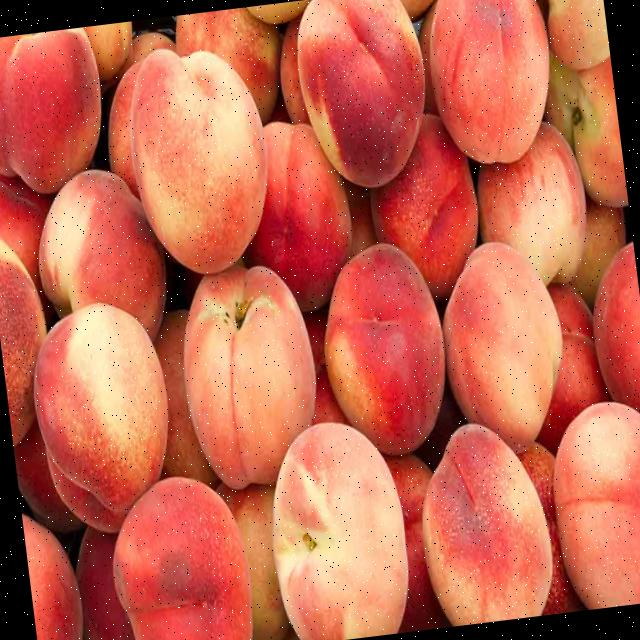peach: (33, 302, 167, 534), (131, 51, 269, 274), (271, 423, 409, 640), (183, 266, 316, 491), (420, 423, 553, 626), (324, 243, 445, 456), (442, 242, 563, 455), (297, 0, 425, 189), (112, 476, 253, 640), (38, 170, 165, 339), (244, 121, 351, 311), (427, 0, 549, 163), (370, 113, 477, 296), (553, 402, 640, 609), (477, 122, 586, 285), (0, 27, 101, 193), (0, 239, 46, 445)
